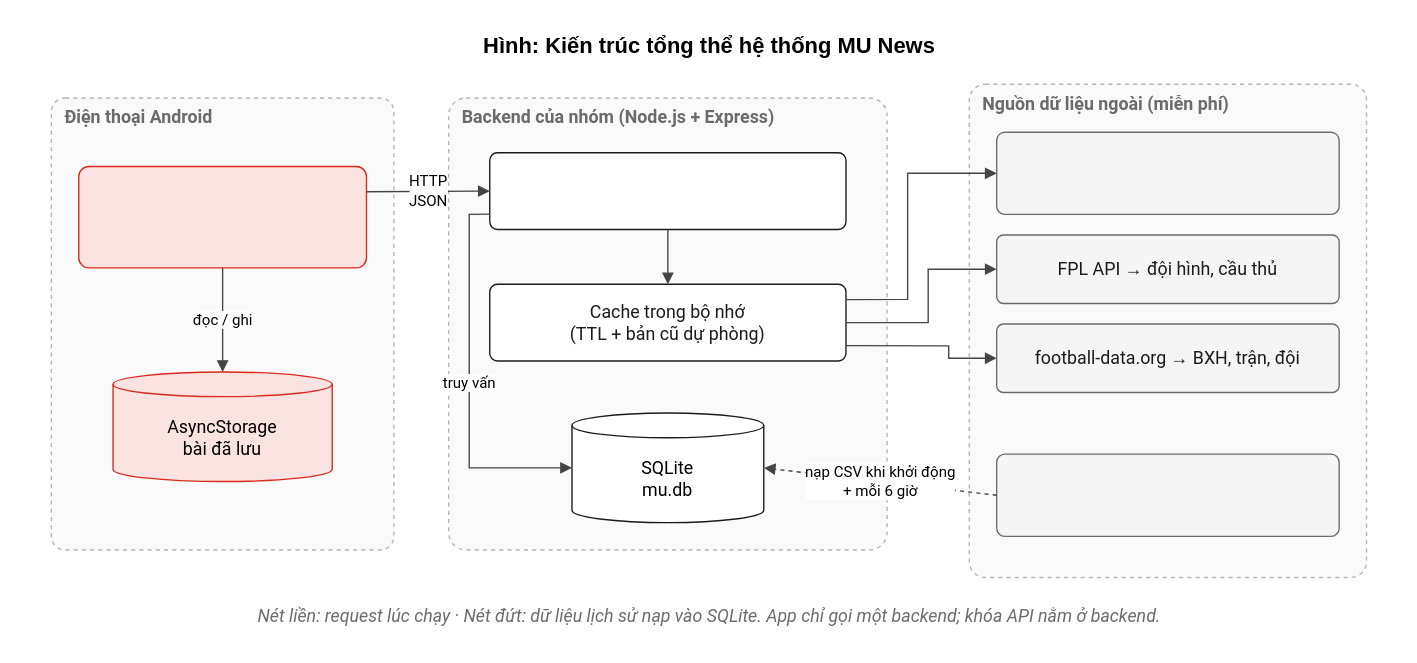
This 1417x663 diagram has some shape labels left out. The centre of each missing label's shape, as x and y in pixels:
App MU News React Native + Expo (Expo Go / APK): pixel 221 216
CSV football-data.co.uk → lịch sử mùa 2010-11 đến nay: pixel 1167 494
Express REST API /api/* helmet · cors · rate-limit: pixel 667 190
RSS báo → tin tức manutd.com, Football365, CaughtOffside: pixel 1167 172
